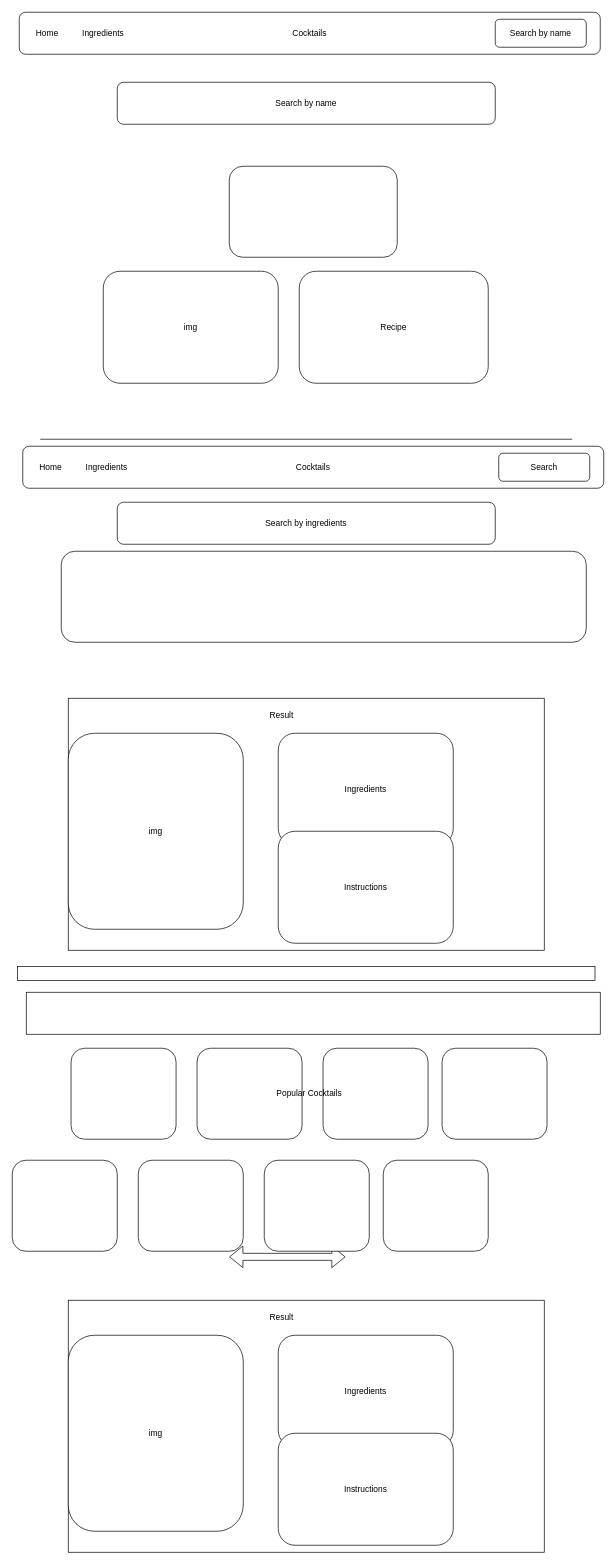
This 616x1565 diagram has some shape labels left out. Each missing label, with the centre of its shape:
"Cocktail of the day" goes at [313,211].
"Nav bar" goes at [313,1013].
"Popular Ingredients" goes at [323,596].
